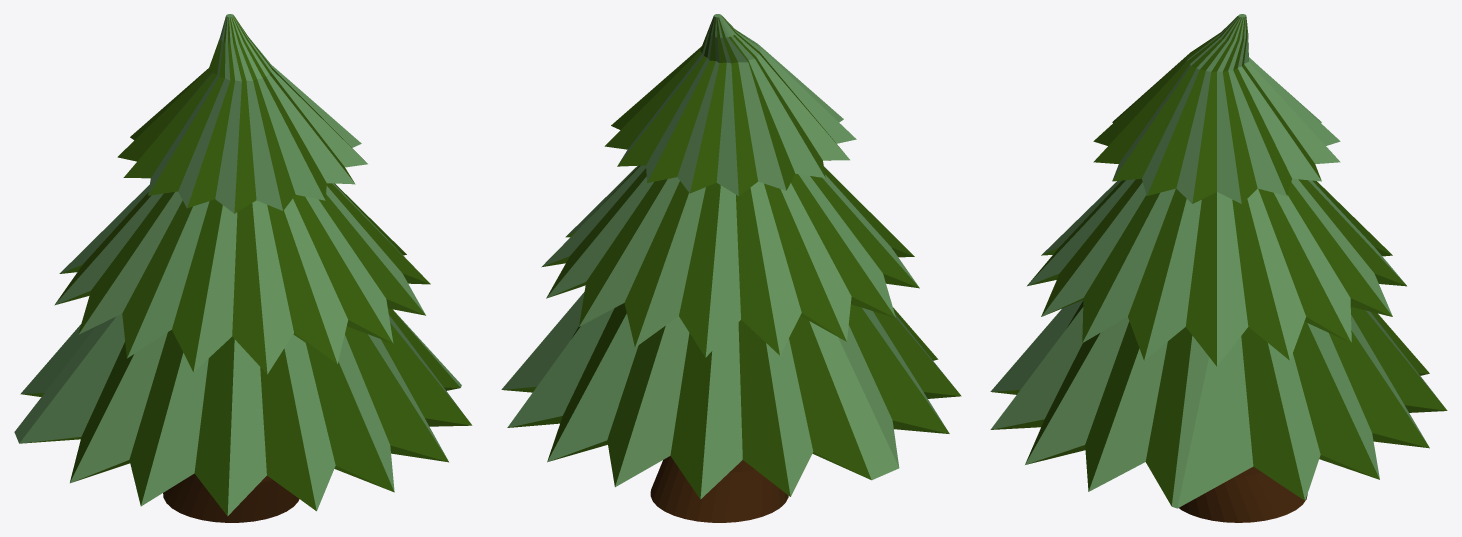
Rendered from tree.fbx.
3 views of the same model, side by side, from view 1: azimuth 30°, elevation 25°; view 2: azimuth 150°, elevation 25°; view 3: azimuth 270°, elevation 25° (orthographic).
Parts seen in each view (by area): view 1: Cylinder; view 2: Cylinder; view 3: Cylinder.
Boxes of the visible parts, x1,y1,x2,y2 form: Cylinder: (14, 14, 472, 522); Cylinder: (501, 14, 961, 522); Cylinder: (990, 14, 1447, 522).
Size of the model in its own units: 661 by 661 by 762.
